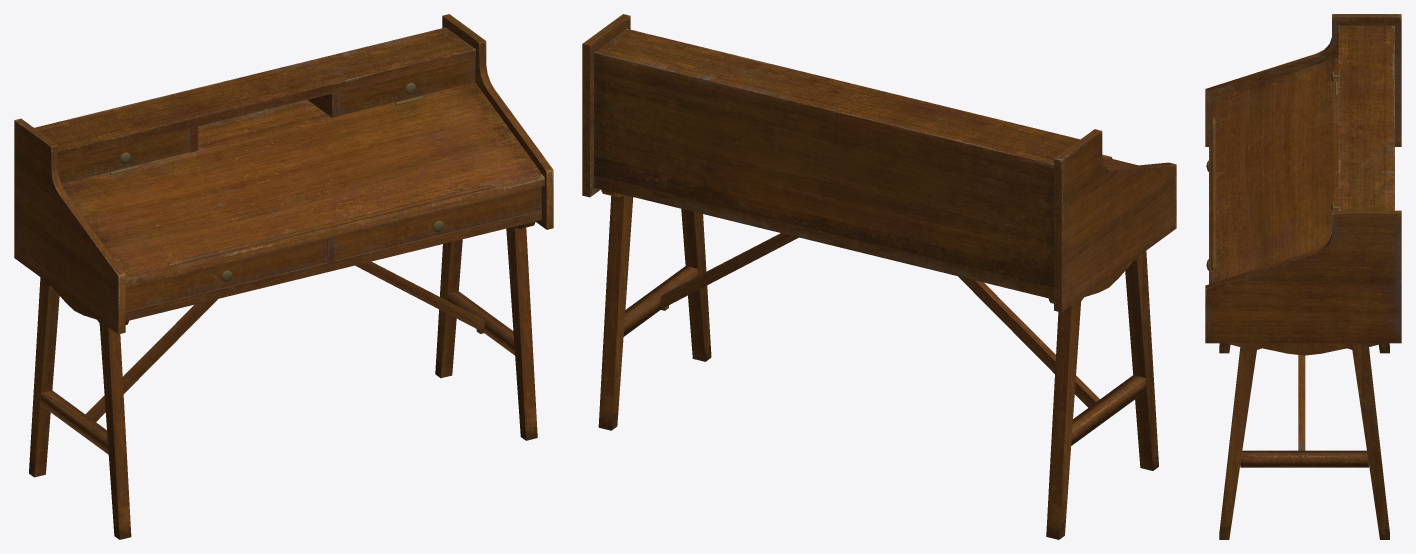
The model's file is 006_StandingDesk.fbx.
3 renders of one model, left to right at view 1: azimuth 30°, elevation 25°; view 2: azimuth 150°, elevation 25°; view 3: azimuth 270°, elevation 25°, orthographic. The views are drawn at different scales.
Visible parts, largest first — view 1: LOD_1_Group_4_Sub_1__sm30_006_StandingDesk01A_A_Mat, LOD_1_Group_3_Sub_1__sm30_006_StandingDesk01A_A_Mat, LOD_1_Group_2_Sub_1__sm30_006_StandingDesk01A_A_Mat, LOD_1_Group_1_Sub_1__sm30_006_StandingDesk01A_A_Mat, LOD_1_Group_0_Sub_1__sm30_006_StandingDesk01A_A_Mat; view 2: LOD_1_Group_4_Sub_1__sm30_006_StandingDesk01A_A_Mat; view 3: LOD_1_Group_4_Sub_1__sm30_006_StandingDesk01A_A_Mat.
Part boxes in pixels (left/top/right/bottom): LOD_1_Group_4_Sub_1__sm30_006_StandingDesk01A_A_Mat: left=14, top=14, right=553, bottom=539; LOD_1_Group_3_Sub_1__sm30_006_StandingDesk01A_A_Mat: left=335, top=187, right=541, bottom=260; LOD_1_Group_2_Sub_1__sm30_006_StandingDesk01A_A_Mat: left=125, top=239, right=327, bottom=311; LOD_1_Group_1_Sub_1__sm30_006_StandingDesk01A_A_Mat: left=339, top=59, right=475, bottom=115; LOD_1_Group_0_Sub_1__sm30_006_StandingDesk01A_A_Mat: left=58, top=128, right=190, bottom=183; LOD_1_Group_4_Sub_1__sm30_006_StandingDesk01A_A_Mat: left=582, top=14, right=1176, bottom=539; LOD_1_Group_4_Sub_1__sm30_006_StandingDesk01A_A_Mat: left=1205, top=14, right=1401, bottom=539.
Size of the model in its own units: 1.69 by 1.3 by 0.7021.
